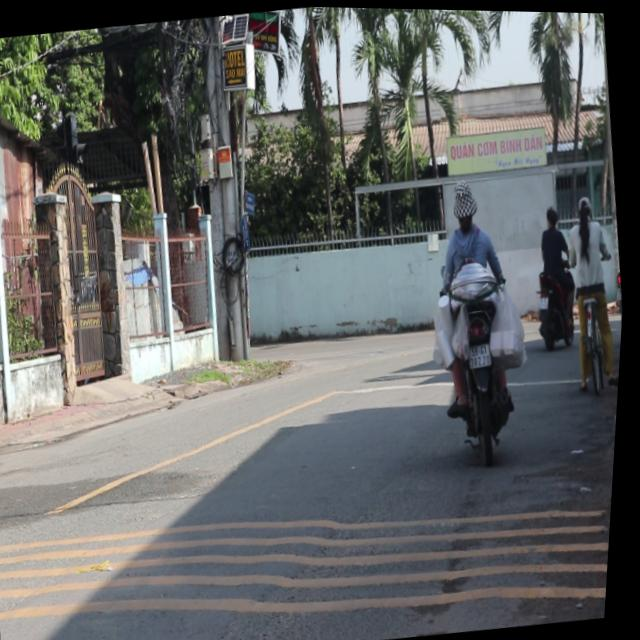licenseplate: (407, 168, 547, 463)
motorcyclist: (448, 175, 480, 225)
nohelmet: (470, 339, 495, 364)
